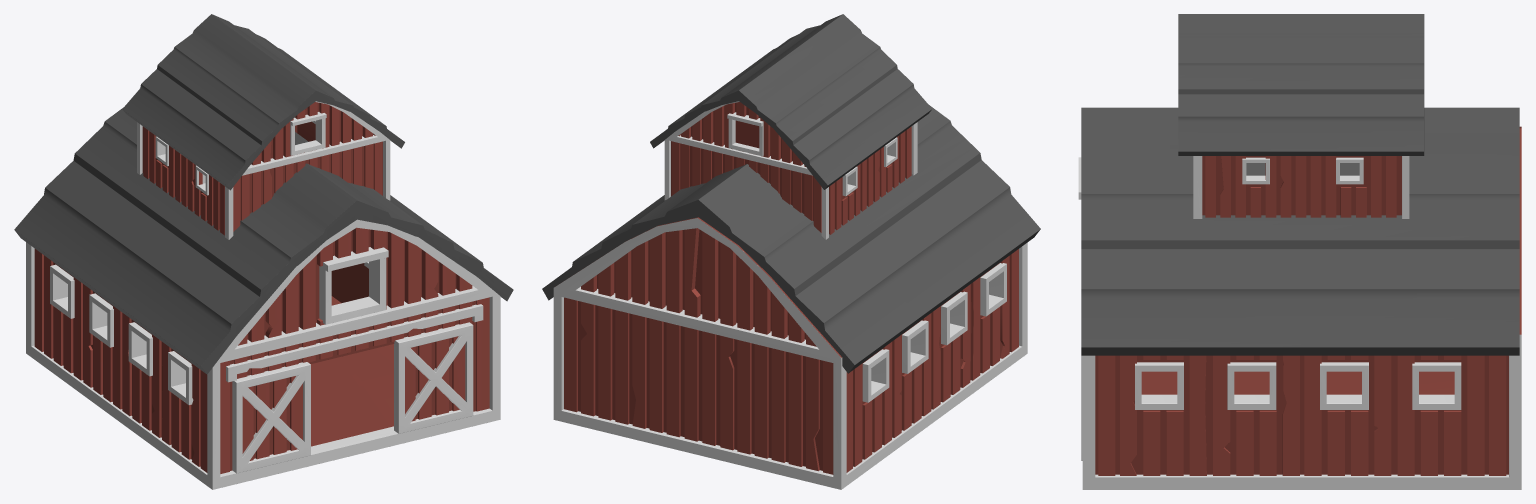
File: BigBarn.glb
3 renders of one model, left to right at view 1: azimuth 30°, elevation 25°; view 2: azimuth 150°, elevation 25°; view 3: azimuth 270°, elevation 25°, orthographic. The views are drawn at different scales.
Parts seen in each view (by area): view 1: BigBarn, BigBarn_Door, BigBarn_Door2; view 2: BigBarn; view 3: BigBarn.
Part boxes in pixels (x1,y1,x2,y2): BigBarn: (14, 14, 513, 489); BigBarn_Door: (394, 322, 473, 433); BigBarn_Door2: (232, 362, 310, 473); BigBarn: (542, 14, 1040, 489); BigBarn: (1078, 14, 1521, 489).
Bounding box in the file's own units: 7.73 × 7.89 × 8.22.
